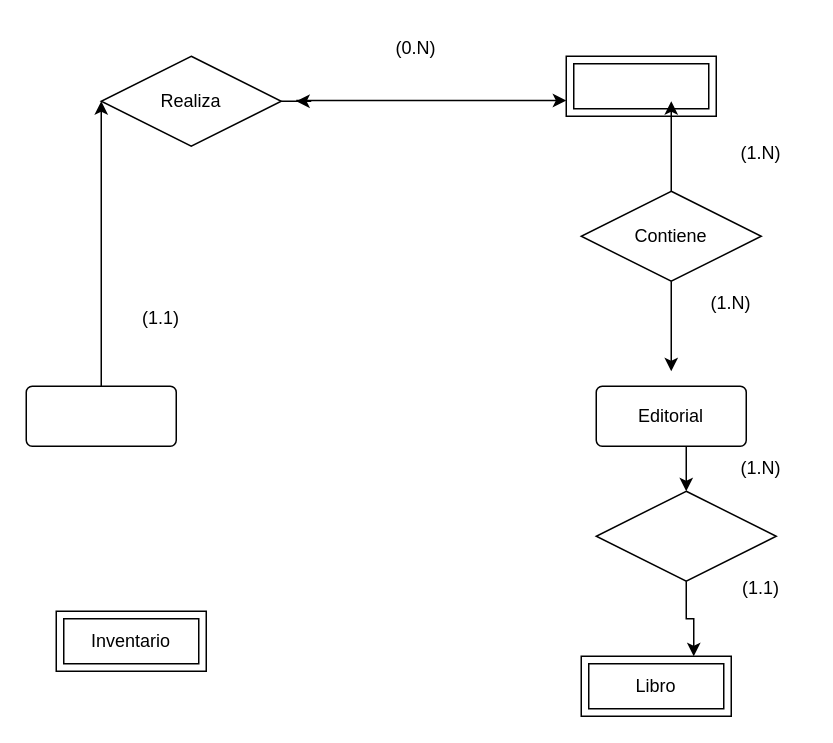
Image size: 833x743. Some labels were removed from this diagram. The box of each missing label's shape, as (x1, y1, x2, y2) in pixels:
Cliente: (25, 385, 176, 446)
Pedido: (565, 55, 716, 116)
Pertenece: (595, 490, 776, 581)
